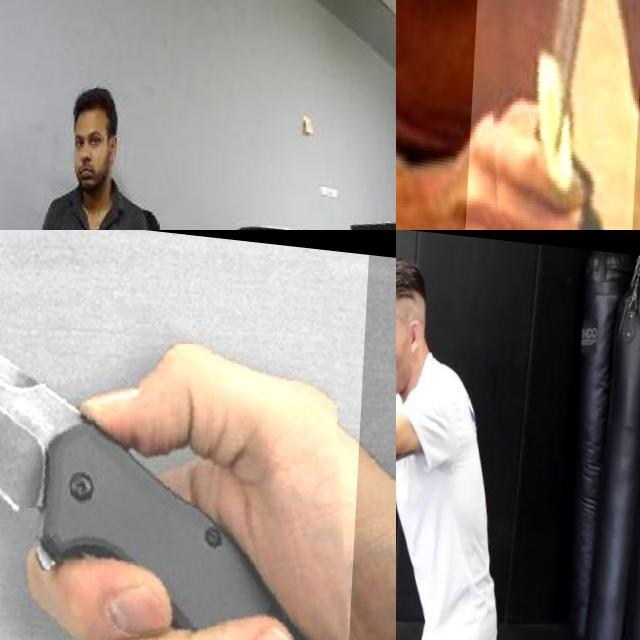-: (0, 230, 369, 640), (469, 0, 640, 230), (396, 439, 444, 557)
